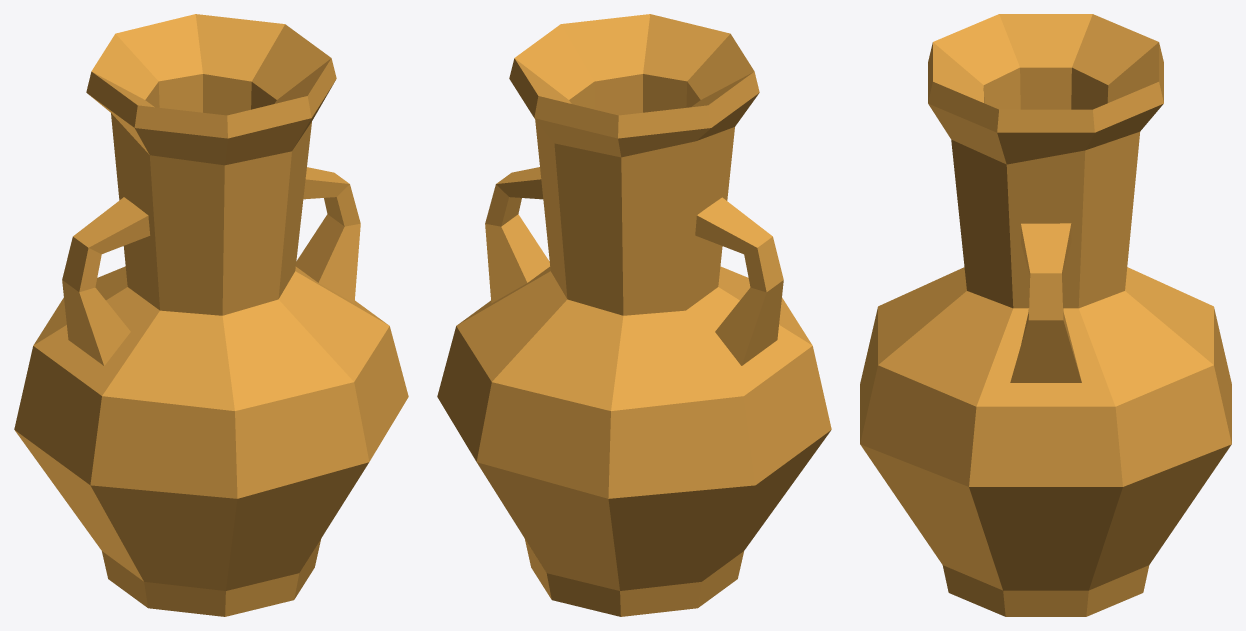
Rendered from egypt-amphora-tall.fbx.
The picture shows the model from 3 angles, left to right: view 1: azimuth 30°, elevation 25°; view 2: azimuth 150°, elevation 25°; view 3: azimuth 270°, elevation 25°; orthographic projection.
Parts seen in each view (by area): view 1: egypt-amphora-tall; view 2: egypt-amphora-tall; view 3: egypt-amphora-tall.
Boxes of the visible parts, <box> form: egypt-amphora-tall: <box>14,14,408,616</box>; egypt-amphora-tall: <box>437,14,831,616</box>; egypt-amphora-tall: <box>860,14,1231,616</box>.
Size of the model in its own units: 0.5892 by 0.8994 by 0.5895.
